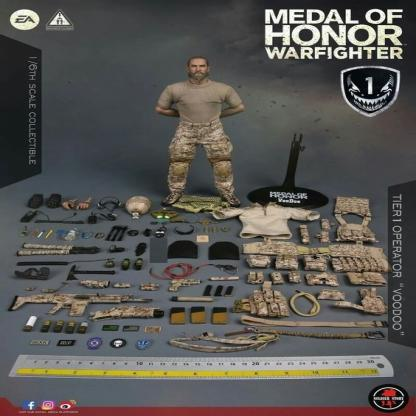Grenade: (133, 258, 145, 270), (105, 257, 116, 269), (120, 257, 130, 270)
Gun: (5, 290, 152, 317)
Pistol: (88, 306, 164, 324), (168, 277, 203, 293)
